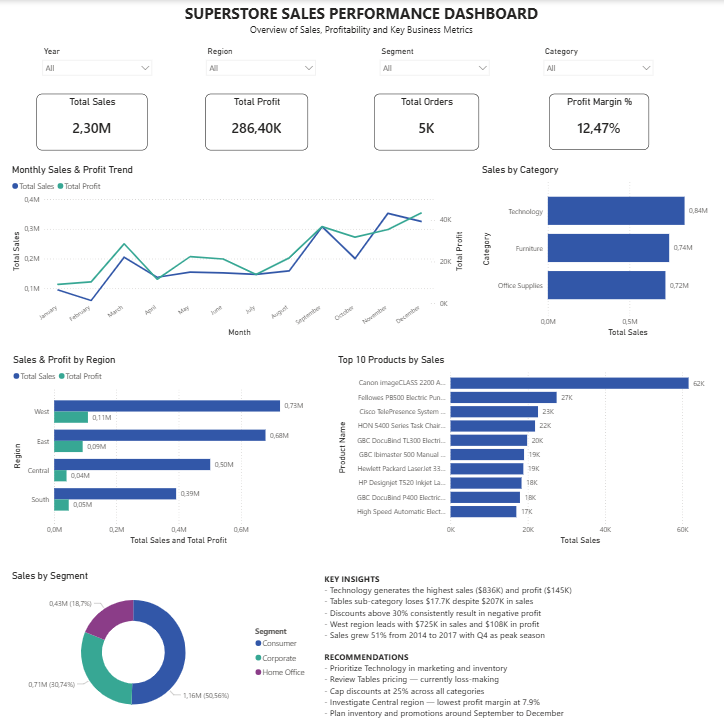

The page's visual inventory and layout, read from the dashboard file:
{"tool":"powerbi","page":{"name":"Executive Dashboard","canvas":[1280,1300],"ordinal":0},"visuals":[{"type":"textbox","box":[0,0,1280.3,69.7],"z":0},{"type":"cardVisual","title":"Total Sales","fields":{"Data":["superstore_cleaned.Total Sales"]},"box":[67.3,165.1,195.7,99.9],"z":1000},{"type":"cardVisual","title":"Total Profit","fields":{"Data":["superstore_cleaned.Total Profit"]},"box":[364.8,165.1,181.4,99.9],"z":2000},{"type":"cardVisual","title":"Total Orders","fields":{"Data":["superstore_cleaned.Total Orders"]},"box":[662.4,165.1,185.5,99.9],"z":3000},{"type":"cardVisual","title":"Profit Margin %","fields":{"Data":["superstore_cleaned.Profit Margin"]},"box":[971.5,165.6,176.6,99.4],"z":4000},{"type":"slicer","fields":{"Values":["superstore_cleaned.Year"]},"box":[67.3,78.3,214,69.7],"z":5000},{"type":"slicer","fields":{"Values":["superstore_cleaned.Region"]},"box":[354.6,78.3,214,69.7],"z":6000},{"type":"slicer","fields":{"Values":["superstore_cleaned.Segment"]},"box":[661.6,78.3,214,69.7],"z":7000},{"type":"slicer","fields":{"Values":["superstore_cleaned.Category"]},"box":[952.6,78.3,214,69.7],"z":8000},{"type":"lineChart","title":"Monthly Sales & Profit Trend","fields":{"Category":["superstore_cleaned.Month"],"Y":["superstore_cleaned.Total Sales"],"Y2":["superstore_cleaned.Total Profit"]},"box":[17.7,289.2,808.1,311.3],"z":9000},{"type":"clusteredBarChart","title":"Sales by Category","fields":{"Category":["superstore_cleaned.Category"],"Y":["superstore_cleaned.Total Sales"]},"box":[847.8,289.2,423.9,311.3],"z":10000},{"type":"clusteredBarChart","title":"Sales & Profit by Region","fields":{"Category":["superstore_cleaned.Region"],"Y":["superstore_cleaned.Total Sales","superstore_cleaned.Total Profit"]},"box":[19.9,624.8,536.5,342.2],"z":11000},{"type":"clusteredBarChart","title":"Top 10 Products by Sales","fields":{"Category":["superstore_cleaned.Product Name"],"Y":["superstore_cleaned.Total Sales"]},"box":[593.9,624.8,677.8,342.2],"z":12000},{"type":"donutChart","title":"Sales by Segment","fields":{"Category":["superstore_cleaned.Segment"],"Y":["superstore_cleaned.Total Sales"]},"box":[17.7,1006.8,536.5,271.6],"z":13000},{"type":"textbox","box":[569.6,1006.8,702.1,271.6],"z":14000}]}

Visuals, with their boxes in screenshot pixels (x1, y1, x2, y2), scaled from the page's 1280x1300 canvas onto the 724x728 screenshot:
textbox: [0,0,723,39]
"Total Sales" cardVisual: [38,92,149,148]
"Total Profit" cardVisual: [206,92,309,148]
"Total Orders" cardVisual: [375,92,480,148]
"Profit Margin %" cardVisual: [550,93,649,148]
slicer - superstore_cleaned.Year: [38,44,159,83]
slicer - superstore_cleaned.Region: [201,44,322,83]
slicer - superstore_cleaned.Segment: [374,44,495,83]
slicer - superstore_cleaned.Category: [539,44,660,83]
"Monthly Sales & Profit Trend" lineChart: [10,162,467,336]
"Sales by Category" clusteredBarChart: [480,162,719,336]
"Sales & Profit by Region" clusteredBarChart: [11,350,315,542]
"Top 10 Products by Sales" clusteredBarChart: [336,350,719,542]
"Sales by Segment" donutChart: [10,564,313,716]
textbox: [322,564,719,716]
